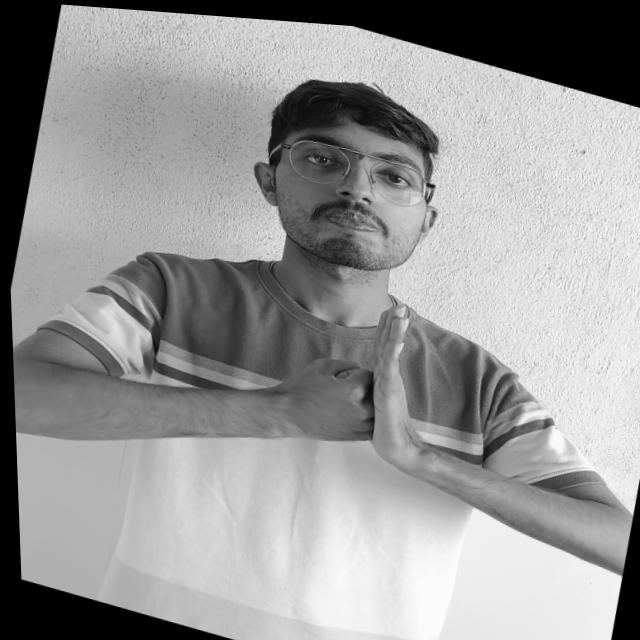Well Done: (180, 239, 561, 543)
